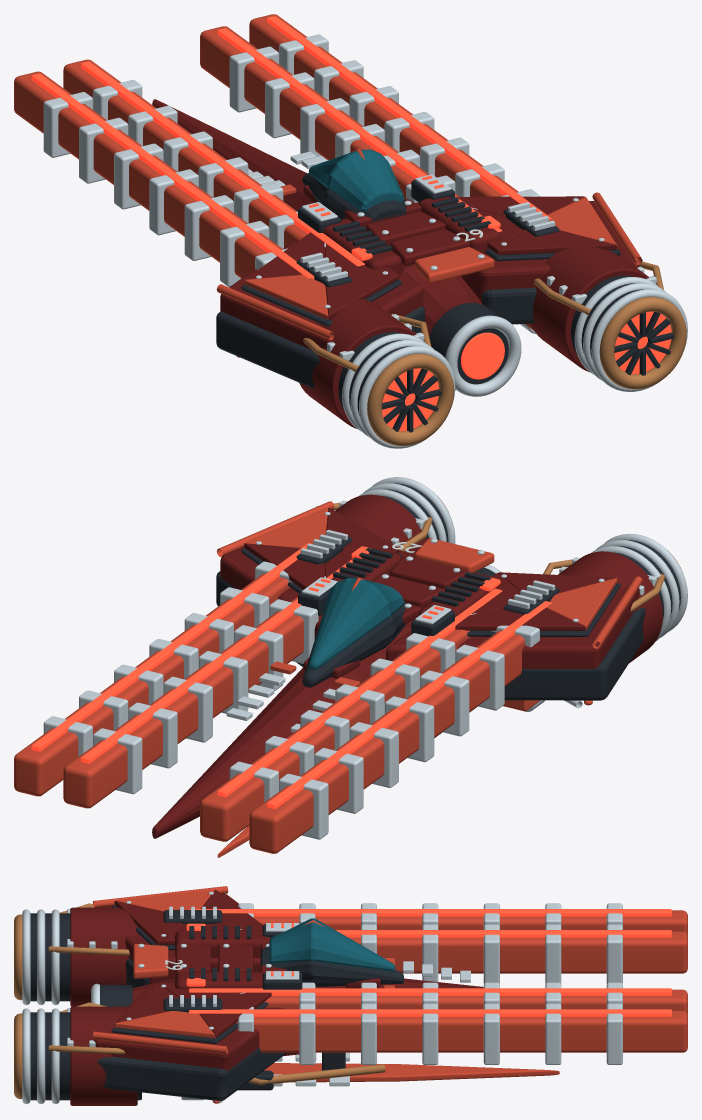
The picture shows the model from 3 angles, top to bottom: view 1: azimuth 30°, elevation 25°; view 2: azimuth 150°, elevation 25°; view 3: azimuth 270°, elevation 25°; orthographic projection. The views are drawn at different scales.
Parts seen in each view (by area): view 1: SolidHull_29; view 2: SolidHull_29; view 3: SolidHull_29.
Part boxes in pixels (x1=…): SolidHull_29: x1=14, y1=14, x2=687, y2=448; SolidHull_29: x1=14, y1=477, x2=687, y2=857; SolidHull_29: x1=14, y1=886, x2=687, y2=1105.
Size of the model in its own units: 2.68 by 1.17 by 4.61.
